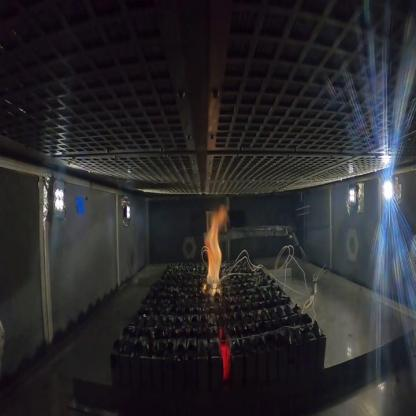fire: (201, 200, 231, 297)
